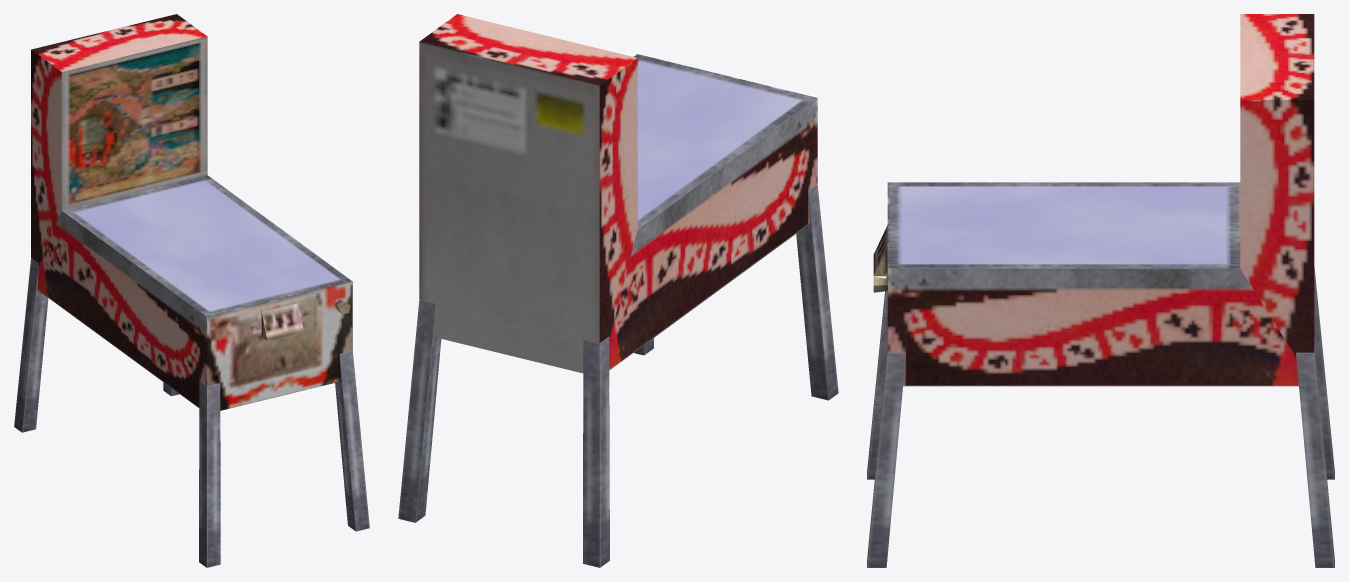
File: PinballTable01.obj
3 renders of one model, left to right at view 1: azimuth 30°, elevation 25°; view 2: azimuth 150°, elevation 25°; view 3: azimuth 270°, elevation 25°, orthographic. The views are drawn at different scales.
Visible parts, largest first — view 1: PinballTable01; view 2: PinballTable01; view 3: PinballTable01.
Part boxes in pixels (x1,y1,x2,y2): PinballTable01: [14, 14, 369, 567]; PinballTable01: [398, 14, 838, 567]; PinballTable01: [867, 14, 1334, 567].
Bounding box in the file's own units: 0.9225 × 2.06 × 1.89.
